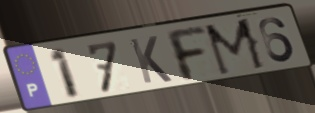1: (48, 46, 85, 100)
6: (258, 17, 297, 65)
7: (84, 39, 120, 95)
F: (161, 25, 210, 84)
K: (126, 34, 175, 86)
M: (202, 16, 269, 78)
